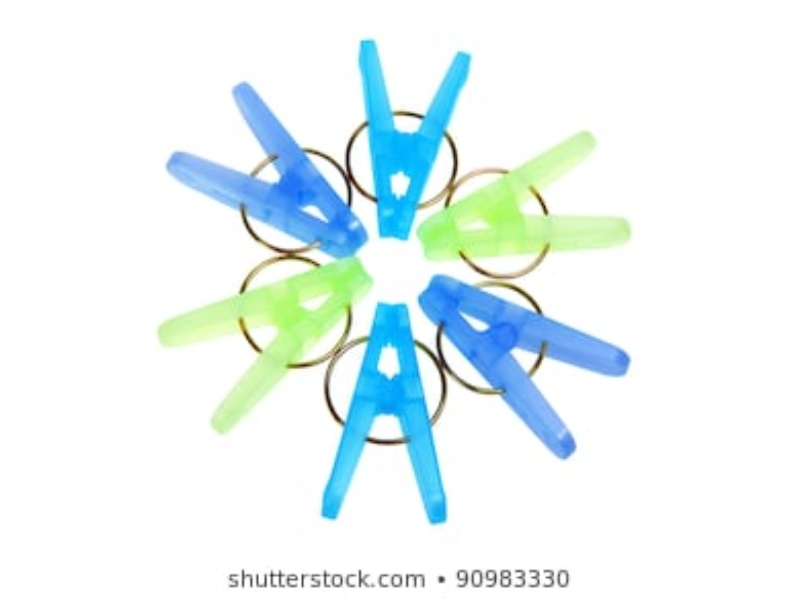plastic-peg: (416, 275, 632, 465), (157, 258, 386, 434), (167, 77, 373, 258), (315, 302, 452, 527), (416, 127, 631, 264), (357, 37, 479, 241)
